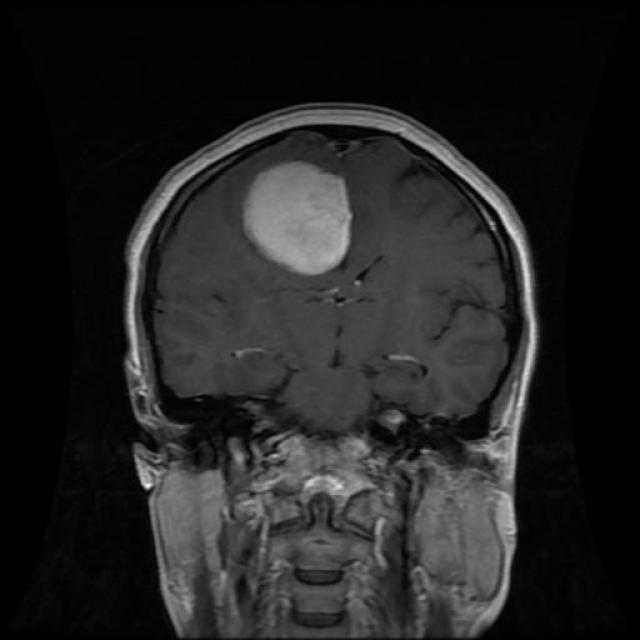meningioma: (244, 161, 354, 276)
